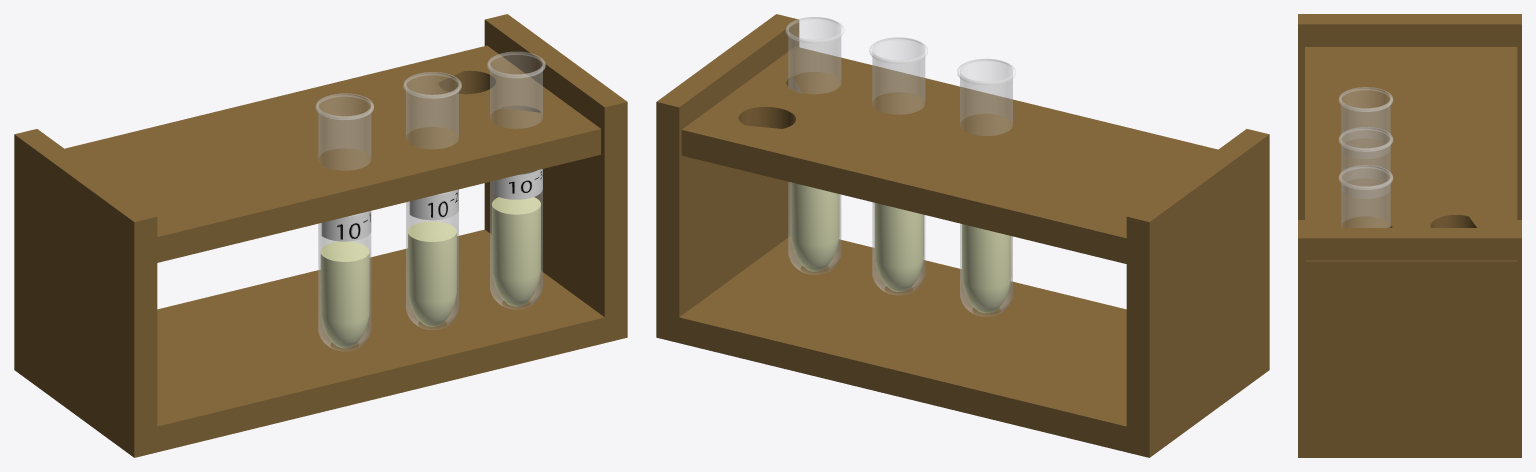
The model's file is rak+ 3 tabung reaksi+ durham masih kosong.fbx.
3 views of the same model, side by side, from view 1: azimuth 30°, elevation 25°; view 2: azimuth 150°, elevation 25°; view 3: azimuth 270°, elevation 25° (orthographic). The views are drawn at different scales.
Visible parts, largest first — view 1: rak tabung reaksi.003, lobang rak.001, tabung reaksi.012, tabung reaksi.007, tabung reaksi.011, tabung reaksi.018, tabung reaksi.016, tabung reaksi.017; view 2: rak tabung reaksi.003, lobang rak.001, tabung reaksi.007, tabung reaksi.011, tabung reaksi.012, tabung reaksi.017, tabung reaksi.016, tabung reaksi.018; view 3: rak tabung reaksi.003, lobang rak.001, tabung reaksi.007, tabung reaksi.012, tabung reaksi.011.
Boxes of the visible parts, <box> form: rak tabung reaksi.003: <box>14,14,627,457</box>; lobang rak.001: <box>65,45,600,262</box>; tabung reaksi.012: <box>315,93,373,350</box>; tabung reaksi.007: <box>487,51,545,309</box>; tabung reaksi.011: <box>403,72,461,329</box>; tabung reaksi.018: <box>492,197,540,306</box>; tabung reaksi.016: <box>320,241,369,348</box>; tabung reaksi.017: <box>408,221,456,326</box>; rak tabung reaksi.003: <box>656,14,1269,457</box>; lobang rak.001: <box>681,46,1217,263</box>; tabung reaksi.007: <box>785,17,844,274</box>; tabung reaksi.011: <box>869,37,927,294</box>; tabung reaksi.012: <box>957,58,1015,316</box>; tabung reaksi.017: <box>874,203,923,291</box>; tabung reaksi.016: <box>962,224,1011,313</box>; tabung reaksi.018: <box>790,182,839,271</box>; rak tabung reaksi.003: <box>1298,14,1521,457</box>; lobang rak.001: <box>1305,47,1517,285</box>; tabung reaksi.007: <box>1338,165,1393,227</box>; tabung reaksi.012: <box>1338,87,1393,147</box>; tabung reaksi.011: <box>1338,127,1393,186</box>.
Size of the model in its own units: 20.03 by 10.31 by 8.43.
